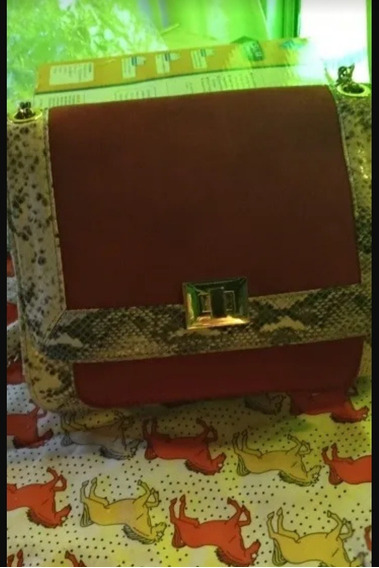cartera: (2, 66, 379, 416)
